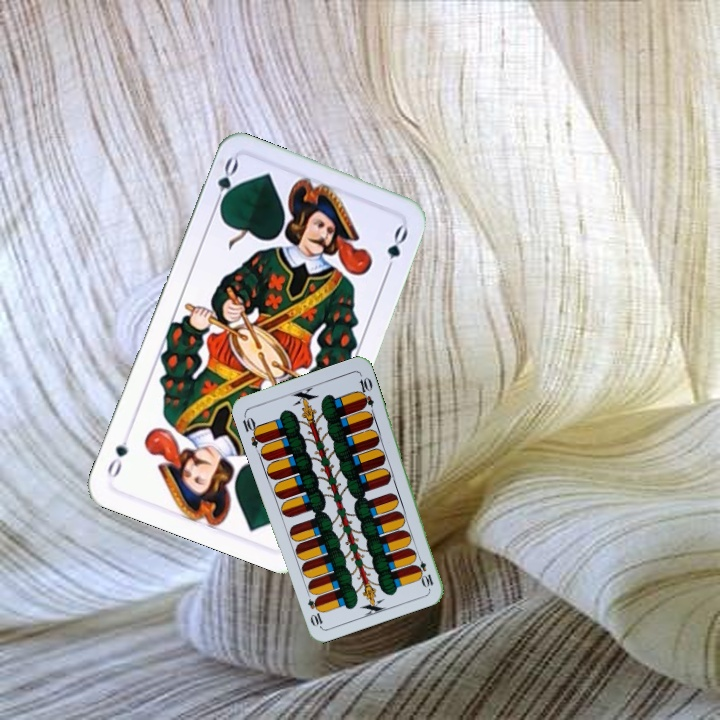E10: (238, 410, 266, 450), (412, 550, 436, 590)
GO: (209, 154, 241, 214)
